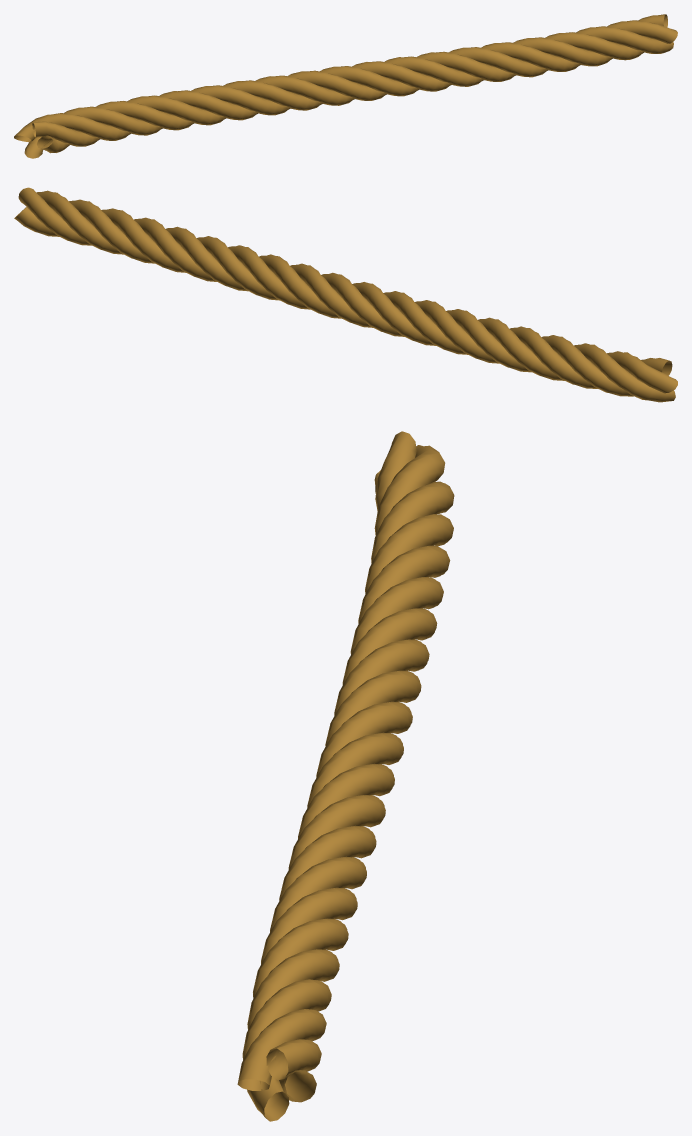
Rendered from rope.fbx.
3 views of the same model, one above another, from view 1: azimuth 30°, elevation 25°; view 2: azimuth 150°, elevation 25°; view 3: azimuth 270°, elevation 25° (orthographic). The views are drawn at different scales.
Visible parts, largest first — view 1: Rope; view 2: Rope; view 3: Rope.
Part boxes in pixels (bbox=[...]): Rope: bbox=[14, 14, 677, 158]; Rope: bbox=[14, 187, 677, 402]; Rope: bbox=[237, 431, 454, 1121].
Bounding box in the file's own units: 1178 × 94.03 × 179.
